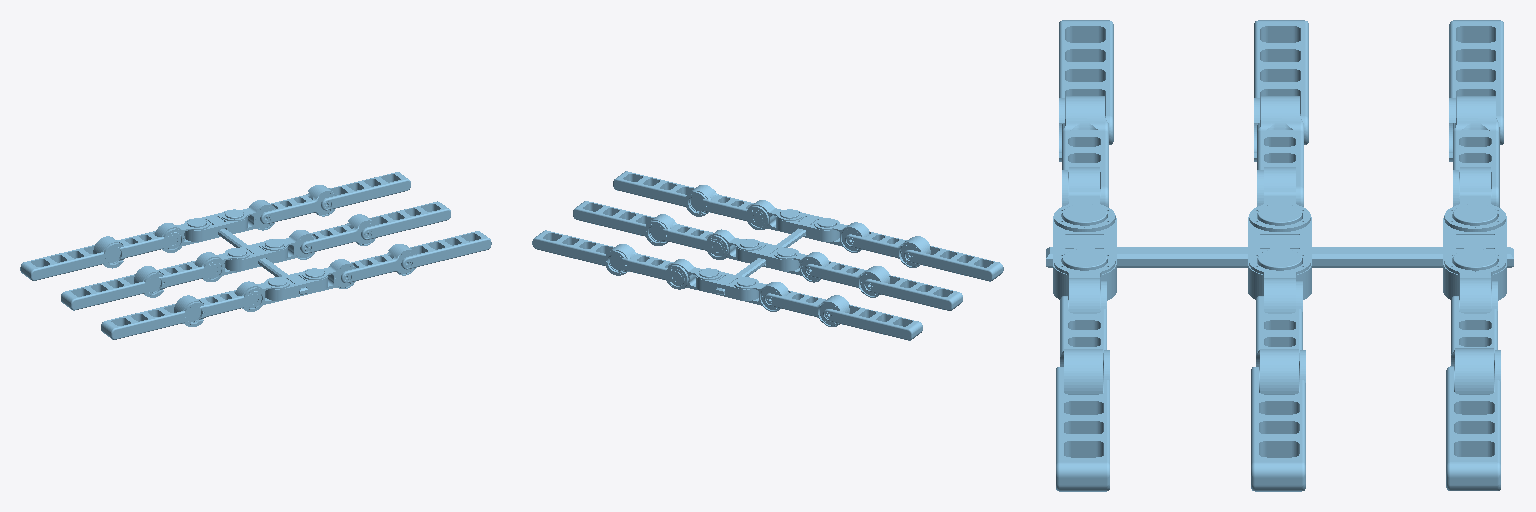
--- Facts derived from the render (not from the file) ---
3 views of the same robot in one strip: view 1: azimuth 30°, elevation 25°; view 2: azimuth 150°, elevation 25°; view 3: azimuth 270°, elevation 25° (orthographic).
Model stick_insect_runj with 19 links and 18 joints (18 revolute), rooted at marine_body, posed all joints at 0.
Visible links, largest first — view 1: marine_body, leg_link_3_4, leg_link_3_2, leg_link_3_6, leg_link_3, leg_link_3_3, leg_link_3_5, marine_link_2_6, marine_link_2_2, marine_link_2_4, marine_link_2, marine_link_2_5 (+6 smaller); view 2: marine_body, leg_link_3_6, leg_link_3_4, leg_link_3_2, leg_link_3, leg_link_3_3, leg_link_3_5, marine_link_2_5, marine_link_2_3, marine_link_2, marine_link_2_2, marine_link_2_6 (+7 smaller); view 3: marine_body, leg_link_3_3, leg_link_3_5, leg_link_3, leg_link_3_6, leg_link_3_2, leg_link_3_4, marine_link_2_3, marine_link_2_5, marine_link_2, marine_link_2_2, marine_link_2_6 (+7 smaller).
Boxes of the visible links, x1,y1,x2,y2 form: marine_body: (184,210,327,300); leg_link_3_4: (61,272,163,310); leg_link_3_2: (101,302,203,339); leg_link_3_6: (20,243,123,280); leg_link_3: (388,231,491,269); leg_link_3_3: (348,201,450,239); leg_link_3_5: (308,172,410,210); marine_link_2_6: (93,228,184,267); marine_link_2_2: (174,287,264,326); marine_link_2_4: (134,258,224,296); marine_link_2: (329,244,416,282); marine_link_2_5: (249,185,336,223); marine_body: (696,210,839,300); leg_link_3_6: (823,295,922,340); leg_link_3_4: (864,266,962,310); leg_link_3_2: (904,236,1003,281); leg_link_3: (613,171,706,216); leg_link_3_3: (573,201,665,245); leg_link_3_5: (532,230,625,275); marine_link_2_5: (608,244,688,289); marine_link_2_3: (649,214,728,259); marine_link_2: (688,185,768,229); marine_link_2_2: (845,222,930,267); marine_link_2_6: (764,282,849,326); marine_body: (1046,204,1513,300); leg_link_3_3: (1251,350,1305,491); leg_link_3_5: (1446,350,1500,490); leg_link_3: (1056,350,1109,491); leg_link_3_6: (1449,20,1503,161); leg_link_3_2: (1059,20,1113,161); leg_link_3_4: (1254,20,1308,161); marine_link_2_3: (1256,281,1302,394); marine_link_2_5: (1451,281,1497,394); marine_link_2: (1060,281,1106,394); marine_link_2_2: (1062,96,1108,207); marine_link_2_6: (1453,96,1499,207).
Bounding box of the posed robot: 1.36 × 0.6 × 0.087 m (x, y, z).
43 mesh visuals loaded from 7 distinct referenced files (7 binary STL).

The robot description file, URDF, robot "stick_insect_runj":
<robot name="stick_insect_runj">
<link name="marine_body">
<visual>
<origin xyz="0.49554269847897802759 0.16053417498772720728 -0.21974789051679632923" rpy="1.3305681734714802891e-08 -1.225703761843755699e-08 1.570796326794896558" />
<geometry>
<mesh filename="package://quadruped_description/quadruped/ak60-6_motor_frame_1.stl"/>
</geometry>
<material name="ak60-6_motor_frame_1_material">
<color rgba="0.61568627450980395466 0.81176470588235294379 0.92941176470588238168 1.0"/>
</material>
</visual>
<collision>
<origin xyz="0.49554269847897802759 0.16053417498772720728 -0.21974789051679632923" rpy="1.3305681734714802891e-08 -1.225703761843755699e-08 1.570796326794896558" />
<geometry>
<mesh filename="package://quadruped_description/quadruped/ak60-6_motor_frame_1.stl"/>
</geometry>
</collision>
<visual>
<origin xyz="0.62954269893137126957 0.16053417457098789756 -0.18574789229975763316" rpy="-1.3305681734714776421e-08 1.2257037618437558644e-08 -1.57079632679489678" />
<geometry>
<mesh filename="package://quadruped_description/quadruped/ak60-6_motor_frame_2.stl"/>
</geometry>
<material name="ak60-6_motor_frame_2_material">
<color rgba="0.61568627450980395466 0.81176470588235294379 0.92941176470588238168 1.0"/>
</material>
</visual>
<collision>
<origin xyz="0.62954269893137126957 0.16053417457098789756 -0.18574789229975763316" rpy="-1.3305681734714776421e-08 1.2257037618437558644e-08 -1.57079632679489678" />
<geometry>
<mesh filename="package://quadruped_description/quadruped/ak60-6_motor_frame_2.stl"/>
</geometry>
</collision>
<visual>
<origin xyz="0.49554269847897802759 -0.089465825012272834349 -0.219747893581055731" rpy="1.3305681734714796274e-08 -1.2257037618437555335e-08 1.570796326794896558" />
<geometry>
<mesh filename="package://quadruped_description/quadruped/ak60-6_motor_frame_1.stl"/>
</geometry>
<material name="ak60-6_motor_frame_1_material">
<color rgba="0.61568627450980395466 0.81176470588235294379 0.92941176470588238168 1.0"/>
</material>
</visual>
<collision>
<origin xyz="0.49554269847897802759 -0.089465825012272834349 -0.219747893581055731" rpy="1.3305681734714796274e-08 -1.2257037618437555335e-08 1.570796326794896558" />
<geometry>
<mesh filename="package://quadruped_description/quadruped/ak60-6_motor_frame_1.stl"/>
</geometry>
</collision>
<visual>
<origin xyz="0.49554269847897780554 0.41053417498772720728 -0.21974788745253695521" rpy="1.3305681734714835978e-08 -1.225703761843755699e-08 1.570796326794896558" />
<geometry>
<mesh filename="package://quadruped_description/quadruped/ak60-6_motor_frame_1.stl"/>
</geometry>
<material name="ak60-6_motor_frame_1_material">
<color rgba="0.61568627450980395466 0.81176470588235294379 0.92941176470588238168 1.0"/>
</material>
</visual>
<collision>
<origin xyz="0.49554269847897780554 0.41053417498772720728 -0.21974788745253695521" rpy="1.3305681734714835978e-08 -1.225703761843755699e-08 1.570796326794896558" />
<geometry>
<mesh filename="package://quadruped_description/quadruped/ak60-6_motor_frame_1.stl"/>
</geometry>
</collision>
<visual>
<origin xyz="0.62954269853220112818 0.41053417493869903687 -0.21574788923549828579" rpy="1.2257037618437566916e-08 1.3305681734714796274e-08 5.5511153706836529512e-17" />
<geometry>
<mesh filename="package://quadruped_description/quadruped/ak_80-6.stl"/>
</geometry>
<material name="ak_80-6_material">
<color rgba="0.61568627450980395466 0.81176470588235294379 0.92941176470588238168 1.0"/>
</material>
</visual>
<collision>
<origin xyz="0.62954269853220112818 0.41053417493869903687 -0.21574788923549828579" rpy="1.2257037618437566916e-08 1.3305681734714796274e-08 5.5511153706836529512e-17" />
<geometry>
<mesh filename="package://quadruped_description/quadruped/ak_80-6.stl"/>
</geometry>
</collision>
<visual>
<origin xyz="0.49554269854550642149 0.16053417492644200815 -0.21474789051679632479" rpy="1.2257037618437566916e-08 1.3305681734714796274e-08 5.5511153706836529512e-17" />
<geometry>
<mesh filename="package://quadruped_description/quadruped/ak_80-6.stl"/>
</geometry>
<material name="ak_80-6_material">
<color rgba="0.61568627450980395466 0.81176470588235294379 0.92941176470588238168 1.0"/>
</material>
</visual>
<collision>
<origin xyz="0.49554269854550642149 0.16053417492644200815 -0.21474789051679632479" rpy="1.2257037618437566916e-08 1.3305681734714796274e-08 5.5511153706836529512e-17" />
<geometry>
<mesh filename="package://quadruped_description/quadruped/ak_80-6.stl"/>
</geometry>
</collision>
<visual>
<origin xyz="0.49554269854550642149 -0.089465825073558019609 -0.21474789358105572656" rpy="1.2257037618437566916e-08 1.3305681734714796274e-08 5.5511153706836529512e-17" />
<geometry>
<mesh filename="package://quadruped_description/quadruped/ak_80-6.stl"/>
</geometry>
<material name="ak_80-6_material">
<color rgba="0.61568627450980395466 0.81176470588235294379 0.92941176470588238168 1.0"/>
</material>
</visual>
<collision>
<origin xyz="0.49554269854550642149 -0.089465825073558019609 -0.21474789358105572656" rpy="1.2257037618437566916e-08 1.3305681734714796274e-08 5.5511153706836529512e-17" />
<geometry>
<mesh filename="package://quadruped_description/quadruped/ak_80-6.stl"/>
</geometry>
</collision>
<visual>
<origin xyz="0.62954269853220079511 -0.089465825061300990884 -0.21574789536401708934" rpy="1.2257037618437566916e-08 1.3305681734714796274e-08 5.5511153706836529512e-17" />
<geometry>
<mesh filename="package://quadruped_description/quadruped/ak_80-6.stl"/>
</geometry>
<material name="ak_80-6_material">
<color rgba="0.61568627450980395466 0.81176470588235294379 0.92941176470588238168 1.0"/>
</material>
</visual>
<collision>
<origin xyz="0.62954269853220079511 -0.089465825061300990884 -0.21574789536401708934" rpy="1.2257037618437566916e-08 1.3305681734714796274e-08 5.5511153706836529512e-17" />
<geometry>
<mesh filename="package://quadruped_description/quadruped/ak_80-6.stl"/>
</geometry>
</collision>
<visual>
<origin xyz="0.62954269853220079511 0.16053417493869903687 -0.21574789229975768756" rpy="1.2257037618437566916e-08 1.3305681734714796274e-08 5.5511153706836529512e-17" />
<geometry>
<mesh filename="package://quadruped_description/quadruped/ak_80-6.stl"/>
</geometry>
<material name="ak_80-6_material">
<color rgba="0.61568627450980395466 0.81176470588235294379 0.92941176470588238168 1.0"/>
</material>
</visual>
<collision>
<origin xyz="0.62954269853220079511 0.16053417493869903687 -0.21574789229975768756" rpy="1.2257037618437566916e-08 1.3305681734714796274e-08 5.5511153706836529512e-17" />
<geometry>
<mesh filename="package://quadruped_description/quadruped/ak_80-6.stl"/>
</geometry>
</collision>
<visual>
<origin xyz="0.62954269893137115854 -0.089465825429012116321 -0.18574789536401703494" rpy="-1.3305681734714776421e-08 1.2257037618437558644e-08 -1.57079632679489678" />
<geometry>
<mesh filename="package://quadruped_description/quadruped/ak60-6_motor_frame_2.stl"/>
</geometry>
<material name="ak60-6_motor_frame_2_material">
<color rgba="0.61568627450980395466 0.81176470588235294379 0.92941176470588238168 1.0"/>
</material>
</visual>
<collision>
<origin xyz="0.62954269893137115854 -0.089465825429012116321 -0.18574789536401703494" rpy="-1.3305681734714776421e-08 1.2257037618437558644e-08 -1.57079632679489678" />
<geometry>
<mesh filename="package://quadruped_description/quadruped/ak60-6_motor_frame_2.stl"/>
</geometry>
</collision>
<visual>
<origin xyz="0.49554269854550619945 0.41053417492644200815 -0.21474788745253692301" rpy="1.2257037618437566916e-08 1.3305681734714796274e-08 5.5511153706836529512e-17" />
<geometry>
<mesh filename="package://quadruped_description/quadruped/ak_80-6.stl"/>
</geometry>
<material name="ak_80-6_material">
<color rgba="0.61568627450980395466 0.81176470588235294379 0.92941176470588238168 1.0"/>
</material>
</visual>
<collision>
<origin xyz="0.49554269854550619945 0.41053417492644200815 -0.21474788745253692301" rpy="1.2257037618437566916e-08 1.3305681734714796274e-08 5.5511153706836529512e-17" />
<geometry>
<mesh filename="package://quadruped_description/quadruped/ak_80-6.stl"/>
</geometry>
</collision>
<visual>
<origin xyz="0.62954269893137126957 0.41053417457098795307 -0.18574788923549812036" rpy="-1.3305681734714776421e-08 1.2257037618437558644e-08 -1.57079632679489678" />
<geometry>
<mesh filename="package://quadruped_description/quadruped/ak60-6_motor_frame_2.stl"/>
</geometry>
<material name="ak60-6_motor_frame_2_material">
<color rgba="0.61568627450980395466 0.81176470588235294379 0.92941176470588238168 1.0"/>
</material>
</visual>
<collision>
<origin xyz="0.62954269893137126957 0.41053417457098795307 -0.18574788923549812036" rpy="-1.3305681734714776421e-08 1.2257037618437558644e-08 -1.57079632679489678" />
<geometry>
<mesh filename="package://quadruped_description/quadruped/ak60-6_motor_frame_2.stl"/>
</geometry>
</collision>
<visual>
<origin xyz="0.5625426986918690142 0.46053417479161462555 -0.20374788773116569995" rpy="1.5707963390519341651 1.330568185036300705e-08 5.5511155124340948949e-17" />
<geometry>
<mesh filename="package://quadruped_description/quadruped/body_part.stl"/>
</geometry>
<material name="body_part_material">
<color rgba="0.61568627450980395466 0.81176470588235294379 0.92941176470588238168 1.0"/>
</material>
</visual>
<collision>
<origin xyz="0.5625426986918690142 0.46053417479161462555 -0.20374788773116569995" rpy="1.5707963390519341651 1.330568185036300705e-08 5.5511155124340948949e-17" />
<geometry>
<mesh filename="package://quadruped_description/quadruped/body_part.stl"/>
</geometry>
</collision>
<inertial>
<origin xyz="0.56254269878464435717 0.16053417470615088947 -0.19677526840596648583" rpy="0 0 0"/>
<mass value="9.8052614872362795495" />
<inertia ixx="0.40721496581039423601" ixy="-3.4962272021055413331e-12"  ixz="0.00028523962509390292028" iyy="0.04410019131074768145" iyz="-4.9589905612922480928e-09" izz="0.44868331468884170565" />
</inertial>
</link>

<link name="marine_link_1">
<visual>
<origin xyz="0.015999999999999944822 0.099999999999999977796 0.013999999999999929168" rpy="-3.1415926535897922278 1.570796326794896558 0" />
<geometry>
<mesh filename="package://quadruped_description/quadruped/ak_80-6.stl"/>
</geometry>
<material name="ak_80-6_material">
<color rgba="0.61568627450980395466 0.81176470588235294379 0.92941176470588238168 1.0"/>
</material>
</visual>
<collision>
<origin xyz="0.015999999999999944822 0.099999999999999977796 0.013999999999999929168" rpy="-3.1415926535897922278 1.570796326794896558 0" />
<geometry>
<mesh filename="package://quadruped_description/quadruped/ak_80-6.stl"/>
</geometry>
</collision>
<visual>
<origin xyz="-1.3877787807814456755e-17 0 -0.0060000000000000053291" rpy="3.141592653589793116 -1.0697889891861386437e-25 3.65050456951868538e-32" />
<geometry>
<mesh filename="package://quadruped_description/quadruped/leg_link_1.stl"/>
</geometry>
<material name="leg_link_1_material">
<color rgba="0.61568627450980395466 0.81176470588235294379 0.92941176470588238168 1.0"/>
</material>
</visual>
<collision>
<origin xyz="-1.3877787807814456755e-17 0 -0.0060000000000000053291" rpy="3.141592653589793116 -1.0697889891861386437e-25 3.65050456951868538e-32" />
<geometry>
<mesh filename="package://quadruped_description/quadruped/leg_link_1.stl"/>
</geometry>
</collision>
<inertial>
<origin xyz="-0.003079867455268380308 0.097378484809245130505 0.013713671493597888451" rpy="0 0 0"/>
<mass value="1.5219446759767925048" />
<inertia ixx="0.0014510247696950756644" ixy="1.2288058522573831177e-05"  ixz="1.3421327695365534447e-06" iyy="0.00078490304555341237729" iyz="-2.753599898644256265e-05" izz="0.0010848479241112583306" />
</inertial>
</link>

<link name="marine_link_2">
<visual>
<origin xyz="-2.7755575615628913511e-17 0 -0.0050000000000000044409" rpy="3.141592653589793116 -7.4376673055560418017e-25 -6.0746132443043036773e-33" />
<geometry>
<mesh filename="package://quadruped_description/quadruped/leg_link_2.stl"/>
</geometry>
<material name="leg_link_2_material">
<color rgba="0.61568627450980395466 0.81176470588235294379 0.92941176470588238168 1.0"/>
</material>
</visual>
<collision>
<origin xyz="-2.7755575615628913511e-17 0 -0.0050000000000000044409" rpy="3.141592653589793116 -7.4376673055560418017e-25 -6.0746132443043036773e-33" />
<geometry>
<mesh filename="package://quadruped_description/quadruped/leg_link_2.stl"/>
</geometry>
</collision>
<visual>
<origin xyz="-2.7755575615628913511e-17 0.21399999999999996803 -0.0060000000000000192069" rpy="-3.3306690738754641979e-16 -2.2204460609926013323e-16 -3.141592653589793116" />
<geometry>
<mesh filename="package://quadruped_description/quadruped/ak_80-6.stl"/>
</geometry>
<material name="ak_80-6_material">
<color rgba="0.61568627450980395466 0.81176470588235294379 0.92941176470588238168 1.0"/>
</material>
</visual>
<collision>
<origin xyz="-2.7755575615628913511e-17 0.21399999999999996803 -0.0060000000000000192069" rpy="-3.3306690738754641979e-16 -2.2204460609926013323e-16 -3.141592653589793116" />
<geometry>
<mesh filename="package://quadruped_description/quadruped/ak_80-6.stl"/>
</geometry>
</collision>
<inertial>
<origin xyz="-8.3367393509718289613e-09 0.19552184531056762684 0.013940732635970872269" rpy="0 0 0"/>
<mass value="1.7687316482567319031" />
<inertia ixx="0.0050867491706552449282" ixy="-7.1050280532120018949e-10"  ixz="5.9357133909882572598e-10" iyy="0.0009414387688410585887" iyz="6.7525784112206494575e-05" izz="0.0053701448403779151325" />
</inertial>
</link>

<link name="leg_link_3">
<visual>
<origin xyz="0 0 -0.0049999999999999905631" rpy="3.141592653589793116 8.0361348176900220237e-25 -6.2314092412225088035e-33" />
<geometry>
<mesh filename="package://quadruped_description/quadruped/leg_link_3.stl"/>
</geometry>
<material name="leg_link_3_material">
<color rgba="0.61568627450980395466 0.81176470588235294379 0.92941176470588238168 1.0"/>
</material>
</visual>
<collision>
<origin xyz="0 0 -0.0049999999999999905631" rpy="3.141592653589793116 8.0361348176900220237e-25 -6.2314092412225088035e-33" />
<geometry>
<mesh filename="package://quadruped_description/quadruped/leg_link_3.stl"/>
</geometry>
</collision>
<inertial>
<origin xyz="-3.2230404266991602092e-08 0.16546849448399042481 0.018847935716785849114" rpy="0 0 0"/>
<mass value="0.42766929955741023184" />
<inertia ixx="0.0033996134873447241519" ixy="-1.2242578620013189789e-10"  ixz="4.5477348300680707396e-10" iyy="0.00032151983771756017898" iyz="-2.1840639475865687041e-05" izz="0.0032069954193416180983" />
</inertial>
</link>

<joint name="leg1_3" type="revolute">
<origin xyz="-2.7755575615628913511e-17 0.21399999999999996803 -0.0060000000000000192069" rpy="3.3306690738754237687e-16 2.2204460903736927137e-16 1.6543612188746611647e-24" />
<parent link="marine_link_2" />
<child link="leg_link_3" />
<axis xyz="0 0 1"/>
<limit effort="1" velocity="20" />
<joint_properties friction="0.0"/>
</joint>

<joint name="leg1_2" type="revolute">
<origin xyz="0.015999999999999944822 0.099999999999999977796 0.013999999999999929168" rpy="-1.0297707144057653159e-15 -1.5707963134892146684 0" />
<parent link="marine_link_1" />
<child link="marine_link_2" />
<axis xyz="0 0 1"/>
<limit effort="1" velocity="20" />
<joint_properties friction="0.0"/>
</joint>

<joint name="leg1_1" type="revolute">
<origin xyz="0.62954269853220079511 -0.089465825061300990884 -0.21574789536401708934" rpy="-1.3305681734714807854e-08 1.2257037618437565262e-08 -1.5707963267948958919" />
<parent link="marine_body" />
<child link="marine_link_1" />
<axis xyz="0 0 1"/>
<limit effort="1" velocity="20" />
<joint_properties friction="0.0"/>
</joint>

<link name="marine_link_1_2">
<visual>
<origin xyz="0.015999999999999042766 0.099999999999999977796 0.013999999999999929168" rpy="-3.141592653589793116 1.570796326794896558 0" />
<geometry>
<mesh filename="package://quadruped_description/quadruped/ak_80-6.stl"/>
</geometry>
<material name="ak_80-6_material">
<color rgba="0.61568627450980395466 0.81176470588235294379 0.92941176470588238168 1.0"/>
</material>
</visual>
<collision>
<origin xyz="0.015999999999999042766 0.099999999999999977796 0.013999999999999929168" rpy="-3.141592653589793116 1.570796326794896558 0" />
<geometry>
<mesh filename="package://quadruped_description/quadruped/ak_80-6.stl"/>
</geometry>
</collision>
<visual>
<origin xyz="-1.3877787807814456755e-17 0 -0.0060000000000000330846" rpy="3.141592653589793116 -7.5393456993408425876e-25 2.917602418913989383e-32" />
<geometry>
<mesh filename="package://quadruped_description/quadruped/leg_link_1.stl"/>
</geometry>
<material name="leg_link_1_material">
<color rgba="0.61568627450980395466 0.81176470588235294379 0.92941176470588238168 1.0"/>
</material>
</visual>
<collision>
<origin xyz="-1.3877787807814456755e-17 0 -0.0060000000000000330846" rpy="3.141592653589793116 -7.5393456993408425876e-25 2.917602418913989383e-32" />
<geometry>
<mesh filename="package://quadruped_description/quadruped/leg_link_1.stl"/>
</geometry>
</collision>
<inertial>
<origin xyz="-0.0030798674552687073033 0.097378484809245116627 0.013713671493597886716" rpy="0 0 0"/>
<mass value="1.5219446759767925048" />
<inertia ixx="0.0014510247696950171175" ixy="1.2288058522576624692e-05"  ixz="1.3421327695366989226e-06" iyy="0.00078490304555335404721" iyz="-2.7535998986442660906e-05" izz="0.0010848479241112312255" />
</inertial>
</link>

<link name="marine_link_2_2">
<visual>
<origin xyz="0 0 -0.0049999999999999905631" rpy="-3.141592653589793116 6.864584346453913776e-25 -1.5117196032702463348e-33" />
<geometry>
<mesh filename="package://quadruped_description/quadruped/leg_link_2.stl"/>
</geometry>
<material name="leg_link_2_material">
<color rgba="0.61568627450980395466 0.81176470588235294379 0.92941176470588238168 1.0"/>
</material>
</visual>
<collision>
<origin xyz="0 0 -0.0049999999999999905631" rpy="-3.141592653589793116 6.864584346453913776e-25 -1.5117196032702463348e-33" />
<geometry>
<mesh filename="package://quadruped_description/quadruped/leg_link_2.stl"/>
</geometry>
</collision>
<visual>
<origin xyz="0 0.21400000000000005129 -0.0059999999999999359401" rpy="-3.3306690738754701143e-16 6.6613381488208584693e-16 3.141592653589793116" />
<geometry>
<mesh filename="package://quadruped_description/quadruped/ak_80-6.stl"/>
</geometry>
<material name="ak_80-6_material">
<color rgba="0.61568627450980395466 0.81176470588235294379 0.92941176470588238168 1.0"/>
</material>
</visual>
<collision>
<origin xyz="0 0.21400000000000005129 -0.0059999999999999359401" rpy="-3.3306690738754701143e-16 6.6613381488208584693e-16 3.141592653589793116" />
<geometry>
<mesh filename="package://quadruped_description/quadruped/ak_80-6.stl"/>
</geometry>
</collision>
<inertial>
<origin xyz="-8.3367393232162533457e-09 0.19552184531056768235 0.013940732635970912168" rpy="0 0 0"/>
<mass value="1.7687316482567319031" />
<inertia ixx="0.0050867491706552353872" ixy="-7.1050280532120122346e-10"  ixz="5.935713397170393193e-10" iyy="0.00094143876884104384355" iyz="6.7525784112205667871e-05" izz="0.0053701448403779159999" />
</inertial>
</link>

<link name="leg_link_3_2">
<visual>
<origin xyz="0 0 -0.0049999999999999905631" rpy="-3.141592653589793116 4.2537504216873527989e-25 -5.170011011294480178e-33" />
<geometry>
<mesh filename="package://quadruped_description/quadruped/leg_link_3.stl"/>
</geometry>
<material name="leg_link_3_material">
<color rgba="0.61568627450980395466 0.81176470588235294379 0.92941176470588238168 1.0"/>
</material>
</visual>
<collision>
<origin xyz="0 0 -0.0049999999999999905631" rpy="-3.141592653589793116 4.2537504216873527989e-25 -5.170011011294480178e-33" />
<geometry>
<mesh filename="package://quadruped_description/quadruped/leg_link_3.stl"/>
</geometry>
</collision>
<inertial>
<origin xyz="-3.2230404266991602092e-08 0.16546849448399042481 0.018847935716785849114" rpy="0 0 0"/>
<mass value="0.42766929955741023184" />
<inertia ixx="0.0033996134873447241519" ixy="-1.2242578620013189789e-10"  ixz="4.5477348300680707396e-10" iyy="0.00032151983771756017898" iyz="-2.1840639475865687041e-05" izz="0.0032069954193416180983" />
</inertial>
</link>

<joint name="leg2_3" type="revolute">
<origin xyz="0 0.21400000000000005129 -0.0059999999999999359401" rpy="3.3306690738754602535e-16 -6.6613381269537081323e-16 -4.2147865943526321321e-32" />
<parent link="marine_link_2_2" />
<child link="leg_link_3_2" />
<axis xyz="0 0 1"/>
<limit effort="1" velocity="20" />
<joint_properties friction="0.0"/>
</joint>

<joint name="leg2_2" type="revolute">
<origin xyz="0.015999999999999042766 0.099999999999999977796 0.013999999999999929168" rpy="-1.1102230246251358328e-16 -1.5707963134892148904 0" />
<parent link="marine_link_1_2" />
<child link="marine_link_2_2" />
<axis xyz="0 0 1"/>
<limit effort="1" velocity="20" />
<joint_properties friction="0.0"/>
</joint>

<joint name="leg2_1" type="revolute">
<origin xyz="0.49554269854550642149 -0.089465825073558019609 -0.21474789358105572656" rpy="1.3305681734715122183e-08 -1.2257037618437547064e-08 1.570796326794896558" />
<parent link="marine_body" />
<child link="marine_link_1_2" />
<axis xyz="0 0 1"/>
<limit effort="1" velocity="20" />
<joint_properties friction="0.0"/>
</joint>

<link name="marine_link_1_3">
<visual>
<origin xyz="0.015999999999999542366 0.10000000000000008882 0.013999999999999956923" rpy="-3.141592653589793116 1.570796326794896558 0" />
<geometry>
<mesh filename="package://quadruped_description/quadruped/ak_80-6.stl"/>
</geometry>
<material name="ak_80-6_material">
<color rgba="0.61568627450980395466 0.81176470588235294379 0.92941176470588238168 1.0"/>
</material>
</visual>
<collision>
<origin xyz="0.015999999999999542366 0.10000000000000008882 0.013999999999999956923" rpy="-3.141592653589793116 1.570796326794896558 0" />
<geometry>
<mesh filename="package://quadruped_description/quadruped/ak_80-6.stl"/>
</geometry>
</collision>
<visual>
<origin xyz="0 0 -0.0060000000000000053291" rpy="-3.141592653589793116 1.0952177031047265357e-25 2.5869652728735385059e-24" />
<geometry>
<mesh filename="package://quadruped_description/quadruped/leg_link_1.stl"/>
</geometry>
<material name="leg_link_1_material">
<color rgba="0.61568627450980395466 0.81176470588235294379 0.92941176470588238168 1.0"/>
</material>
</visual>
<collision>
<origin xyz="0 0 -0.0060000000000000053291" rpy="-3.141592653589793116 1.0952177031047265357e-25 2.5869652728735385059e-24" />
<geometry>
<mesh filename="package://quadruped_description/quadruped/leg_link_1.stl"/>
</geometry>
</collision>
<inertial>
<origin xyz="-0.0030798674552685290605 0.097378484809245227649 0.013713671493597916207" rpy="0 0 0"/>
<mass value="1.5219446759767925048" />
<inertia ixx="0.0014510247696950502941" ixy="1.2288058522575977558e-05"  ixz="1.3421327695366271365e-06" iyy="0.00078490304555338679011" iyz="-2.7535998986442704952e-05" izz="0.0010848479241112472717" />
</inertial>
</link>

<link name="marine_link_2_3">
<visual>
<origin xyz="-2.7755575615628913511e-17 0 -0.0050000000000000044409" rpy="-3.141592653589793116 1.3907307573403654665e-24 2.0285433583972228492e-25" />
<geometry>
<mesh filename="package://quadruped_description/quadruped/leg_link_2.stl"/>
</geometry>
<material name="leg_link_2_material">
<color rgba="0.61568627450980395466 0.81176470588235294379 0.92941176470588238168 1.0"/>
</material>
</visual>
<collision>
<origin xyz="-2.7755575615628913511e-17 0 -0.0050000000000000044409" rpy="-3.141592653589793116 1.3907307573403654665e-24 2.0285433583972228492e-25" />
<geometry>
<mesh filename="package://quadruped_description/quadruped/leg_link_2.stl"/>
</geometry>
</collision>
<visual>
<origin xyz="-5.5511151231257827021e-17 0.21400000000000019007 -0.0060000000000000053291" rpy="-3.3306690885949711911e-16 -2.2204460385778545698e-16 3.141592653589793116" />
<geometry>
<mesh filename="package://quadruped_description/quadruped/ak_80-6.stl"/>
</geometry>
<material name="ak_80-6_material">
<color rgba="0.61568627450980395466 0.81176470588235294379 0.92941176470588238168 1.0"/>
</material>
</visual>
<collision>
<origin xyz="-5.5511151231257827021e-17 0.21400000000000019007 -0.0060000000000000053291" rpy="-3.3306690885949711911e-16 -2.2204460385778545698e-16 3.141592653589793116" />
<geometry>
<mesh filename="package://quadruped_description/quadruped/ak_80-6.stl"/>
</geometry>
</collision>
<inertial>
<origin xyz="-8.3367393732408578489e-09 0.19552184531056776562 0.013940732635970882677" rpy="0 0 0"/>
<mass value="1.7687316482567319031" />
<inertia ixx="0.0050867491706552570713" ixy="-7.1050280459338661257e-10"  ixz="5.9357133906809400167e-10" iyy="0.00094143876884105880554" iyz="6.7525784112206453918e-05" izz="0.0053701448403779272756" />
</inertial>
</link>

<link name="leg_link_3_3">
<visual>
<origin xyz="-2.7755575615628913511e-17 0 -0.0049999999999999766853" rpy="-3.141592653589793116 6.966362740402553954e-25 2.7749145379640475013e-25" />
<geometry>
<mesh filename="package://quadruped_description/quadruped/leg_link_3.stl"/>
</geometry>
<material name="leg_link_3_material">
<color rgba="0.61568627450980395466 0.81176470588235294379 0.92941176470588238168 1.0"/>
</material>
</visual>
<collision>
<origin xyz="-2.7755575615628913511e-17 0 -0.0049999999999999766853" rpy="-3.141592653589793116 6.966362740402553954e-25 2.7749145379640475013e-25" />
<geometry>
<mesh filename="package://quadruped_description/quadruped/leg_link_3.stl"/>
</geometry>
</collision>
<inertial>
<origin xyz="-3.2230404294747177707e-08 0.16546849448399042481 0.018847935716785866461" rpy="0 0 0"/>
<mass value="0.42766929955741023184" />
<inertia ixx="0.0033996134873447241519" ixy="-1.2242578620013189789e-10"  ixz="4.5477348300680712566e-10" iyy="0.00032151983771756017898" iyz="-2.1840639475865690429e-05" izz="0.0032069954193416189657" />
</inertial>
</link>

<joint name="leg3_3" type="revolute">
<origin xyz="-5.5511151231257827021e-17 0.21400000000000019007 -0.0060000000000000053291" rpy="3.2897757207906240735e-16 2.1740346064075694008e-16 1.5775077551595413785e-16" />
<parent link="marine_link_2_3" />
<child link="leg_link_3_3" />
<axis xyz="0 0 1"/>
<limit effort="1" velocity="20" />
<joint_properties friction="0.0"/>
</joint>

<joint name="leg3_2" type="revolute">
<origin xyz="0.015999999999999542366 0.10000000000000008882 0.013999999999999956923" rpy="-1.1102230042829666546e-16 -1.5707963121762660297 0" />
<parent link="marine_link_1_3" />
<child link="marine_link_2_3" />
<axis xyz="0 0 1"/>
<limit effort="1" velocity="20" />
<joint_properties friction="0.0"/>
</joint>

<joint name="leg3_1" type="revolute">
<origin xyz="0.62954269853220079511 0.16053417493869903687 -0.21574789229975768756" rpy="-1.3305681809745279144e-08 1.2257037388934383595e-08 -1.5707963440434054014" />
<parent link="marine_body" />
<child link="marine_link_1_3" />
<axis xyz="0 0 1"/>
<limit effort="1" velocity="20" />
<joint_properties friction="0.0"/>
</joint>

<link name="marine_link_1_4">
<visual>
<origin xyz="0.015999999999999042766 0.10000000000000003331 0.013999999999999956923" rpy="-3.141592653589793116 1.570796326794896558 0" />
<geometry>
<mesh filename="package://quadruped_description/quadruped/ak_80-6.stl"/>
</geometry>
<material name="ak_80-6_material">
<color rgba="0.61568627450980395466 0.81176470588235294379 0.92941176470588238168 1.0"/>
</material>
</visual>
<collision>
<origin xyz="0.015999999999999042766 0.10000000000000003331 0.013999999999999956923" rpy="-3.141592653589793116 1.570796326794896558 0" />
<geometry>
<mesh filename="package://quadruped_description/quadruped/ak_80-6.stl"/>
</geometry>
</collision>
<visual>
<origin xyz="0 5.5511151231257827021e-17 -0.0060000000000000053291" rpy="3.141592653589793116 -1.668211952592687238e-25 1.6053017636499942982e-32" />
<geometry>
<mesh filename="package://quadruped_description/quadruped/leg_link_1.stl"/>
</geometry>
<material name="leg_link_1_material">
<color rgba="0.61568627450980395466 0.81176470588235294379 0.92941176470588238168 1.0"/>
</material>
</visual>
<collision>
<origin xyz="0 5.5511151231257827021e-17 -0.0060000000000000053291" rpy="3.141592653589793116 -1.668211952592687238e-25 1.6053017636499942982e-32" />
<geometry>
<mesh filename="package://quadruped_description/quadruped/leg_link_1.stl"/>
</geometry>
</collision>
<inertial>
<origin xyz="-0.0030798674552687068696 0.097378484809245172138 0.013713671493597916207" rpy="0 0 0"/>
<mass value="1.5219446759767925048" />
<inertia ixx="0.0014510247696950171175" ixy="1.2288058522576677208e-05"  ixz="1.34213276953670464e-06" iyy="0.00078490304555335404721" iyz="-2.7535998986442660906e-05" izz="0.0010848479241112316592" />
</inertial>
</link>

<link name="marine_link_2_4">
<visual>
<origin xyz="0 0 -0.0049999999999999766853" rpy="3.141592653589793116 -5.9851547942136553154e-26 -5.7154402598272642465e-25" />
<geometry>
<mesh filename="package://quadruped_description/quadruped/leg_link_2.stl"/>
</geometry>
<material name="leg_link_2_material">
<color rgba="0.61568627450980395466 0.81176470588235294379 0.92941176470588238168 1.0"/>
</material>
</visual>
<collision>
<origin xyz="0 0 -0.0049999999999999766853" rpy="3.141592653589793116 -5.9851547942136553154e-26 -5.7154402598272642465e-25" />
<geometry>
<mesh filename="package://quadruped_description/quadruped/leg_link_2.stl"/>
</geometry>
</collision>
<visual>
<origin xyz="2.7755575615628913511e-17 0.21399999999999996803 -0.0059999999999999498179" rpy="-3.3306690738754706073e-16 6.6613381477510565856e-16 -3.141592653589793116" />
<geometry>
<mesh filename="package://quadruped_description/quadruped/ak_80-6.stl"/>
</geometry>
<material name="ak_80-6_material">
<color rgba="0.61568627450980395466 0.81176470588235294379 0.92941176470588238168 1.0"/>
</material>
</visual>
<collision>
<origin xyz="2.7755575615628913511e-17 0.21399999999999996803 -0.0059999999999999498179" rpy="-3.3306690738754706073e-16 6.6613381477510565856e-16 -3.141592653589793116" />
<geometry>
<mesh filename="package://quadruped_description/quadruped/ak_80-6.stl"/>
</geometry>
</collision>
<inertial>
<origin xyz="-8.3367393009472261124e-09 0.19552184531056762684 0.013940732635970903494" rpy="0 0 0"/>
<mass value="1.7687316482567319031" />
<inertia ixx="0.0050867491706552327851" ixy="-7.1050280604901655814e-10"  ixz="5.935713397477713538e-10" iyy="0.00094143876884104601196" iyz="6.752578411220630484e-05" izz="0.005370144840377911663" />
</inertial>
</link>

<link name="leg_link_3_4">
<visual>
<origin xyz="-2.7755575615628913511e-17 2.7755575615628913511e-17 -0.0049999999999999766853" rpy="-3.141592653589793116 -1.8683188381277295455e-24 -2.8607443409091804138e-24" />
<geometry>
<mesh filename="package://quadruped_description/quadruped/leg_link_3.stl"/>
</geometry>
<material name="leg_link_3_material">
<color rgba="0.61568627450980395466 0.81176470588235294379 0.92941176470588238168 1.0"/>
</material>
</visual>
<collision>
<origin xyz="-2.7755575615628913511e-17 2.7755575615628913511e-17 -0.0049999999999999766853" rpy="-3.141592653589793116 -1.8683188381277295455e-24 -2.8607443409091804138e-24" />
<geometry>
<mesh filename="package://quadruped_description/quadruped/leg_link_3.stl"/>
</geometry>
</collision>
<inertial>
<origin xyz="-3.2230404294747177707e-08 0.16546849448399045257 0.018847935716785862992" rpy="0 0 0"/>
<mass value="0.42766929955741023184" />
<inertia ixx="0.0033996134873447241519" ixy="-1.2242578620013189789e-10"  ixz="4.5477348300680707396e-10" iyy="0.00032151983771756017898" iyz="-2.1840639475865687041e-05" izz="0.0032069954193416180983" />
</inertial>
</link>

<joint name="leg4_3" type="revolute">
<origin xyz="0 0.21399999999999996803 -0.0058999999999999608313" rpy="3.330669198001233236e-16 -6.6613380671725655711e-16 -1.8633760118236322817e-08" />
<parent link="marine_link_2_4" />
<child link="leg_link_3_4" />
<axis xyz="0 0 1"/>
<limit effort="1" velocity="20" />
<joint_properties friction="0.0"/>
</joint>

<joint name="leg4_2" type="revolute">
<origin xyz="0.015999999999999042766 0.10000000000000003331 0.013999999999999956923" rpy="-1.1102230246251375585e-16 -1.570796301276968121 0" />
<parent link="marine_link_1_4" />
<child link="marine_link_2_4" />
<axis xyz="0 0 1"/>
<limit effort="1" velocity="20" />
<joint_properties friction="0.0"/>
</joint>

<joint name="leg4_1" type="revolute">
<origin xyz="0.49554269854550642149 0.16053417492644200815 -0.21474789051679632479" rpy="1.3305681734715113911e-08 -1.2257037618437547064e-08 1.570796326794896558" />
<parent link="marine_body" />
<child link="marine_link_1_4" />
<axis xyz="0 0 1"/>
<limit effort="1" velocity="20" />
<joint_properties friction="0.0"/>
</joint>

<link name="marine_link_1_5">
<visual>
<origin xyz="0.01599999999999901501 0.099999999999999866773 0.013999999999999956923" rpy="3.141592653589793116 1.570796326794896558 0" />
<geometry>
<mesh filename="package://quadruped_description/quadruped/ak_80-6.stl"/>
</geometry>
<material name="ak_80-6_material">
<color rgba="0.61568627450980395466 0.81176470588235294379 0.92941176470588238168 1.0"/>
</material>
</visual>
<collision>
<origin xyz="0.01599999999999901501 0.099999999999999866773 0.013999999999999956923" rpy="3.141592653589793116 1.570796326794896558 0" />
<geometry>
<mesh filename="package://quadruped_description/quadruped/ak_80-6.stl"/>
</geometry>
</collision>
<visual>
<origin xyz="-1.1102230246251565404e-16 -1.1102230246251565404e-16 -0.0060000000000000053291" rpy="3.141592653589793116 5.3997677209687746852e-25 -1.5198795551881781573e-32" />
<geometry>
<mesh filename="package://quadruped_description/quadruped/leg_link_1.stl"/>
</geometry>
<material name="leg_link_1_material">
<color rgba="0.61568627450980395466 0.81176470588235294379 0.92941176470588238168 1.0"/>
</material>
</visual>
<collision>
<origin xyz="-1.1102230246251565404e-16 -1.1102230246251565404e-16 -0.0060000000000000053291" rpy="3.141592653589793116 5.3997677209687746852e-25 -1.5198795551881781573e-32" />
<geometry>
<mesh filename="package://quadruped_description/quadruped/leg_link_1.stl"/>
</geometry>
</collision>
<inertial>
<origin xyz="-0.0030798674552687237832 0.097378484809245005605 0.013713671493597917941" rpy="0 0 0"/>
<mass value="1.5219446759767925048" />
<inertia ixx="0.0014510247696950149491" ixy="1.2288058522576338394e-05"  ixz="1.3421327695366199367e-06" iyy="0.00078490304555335838402" iyz="-2.7535998986442674458e-05" izz="0.0010848479241112338276" />
</inertial>
</link>

<link name="marine_link_2_5">
<visual>
<origin xyz="-2.7755575615628913511e-17 0 -0.0050000000000000044409" rpy="-3.141592653589793116 -1.566545694851067642e-25 2.1949138965686868994e-33" />
<geometry>
<mesh filename="package://quadruped_description/quadruped/leg_link_2.stl"/>
</geometry>
<material name="leg_link_2_material">
<color rgba="0.61568627450980395466 0.81176470588235294379 0.92941176470588238168 1.0"/>
</material>
</visual>
<collision>
<origin xyz="-2.7755575615628913511e-17 0 -0.0050000000000000044409" rpy="-3.141592653589793116 -1.566545694851067642e-25 2.1949138965686868994e-33" />
<geometry>
<mesh filename="package://quadruped_description/quadruped/leg_link_2.stl"/>
</geometry>
</collision>
<visual>
<origin xyz="-2.7755575615628913511e-17 0.21400000000000007905 -0.0060000000000000053291" rpy="-3.33066907387546617e-16 -2.2204460503201228532e-16 3.141592653589793116" />
<geometry>
<mesh filename="package://quadruped_description/quadruped/ak_80-6.stl"/>
</geometry>
<material name="ak_80-6_material">
<color rgba="0.61568627450980395466 0.81176470588235294379 0.92941176470588238168 1.0"/>
</material>
</visual>
<collision>
<origin xyz="-2.7755575615628913511e-17 0.21400000000000007905 -0.0060000000000000053291" rpy="-3.33066907387546617e-16 -2.2204460503201228532e-16 3.141592653589793116" />
<geometry>
<mesh filename="package://quadruped_description/quadruped/ak_80-6.stl"/>
</geometry>
</collision>
<inertial>
<origin xyz="-8.3367393509718289613e-09 0.19552184531056768235 0.013940732635970882677" rpy="0 0 0"/>
<mass value="1.7687316482567319031" />
<inertia ixx="0.0050867491706552509997" ixy="-7.1050280532120153366e-10"  ixz="5.9357133909882551919e-10" iyy="0.0009414387688410585887" iyz="6.752578411220625063e-05" izz="0.0053701448403779203367" />
</inertial>
</link>

<link name="leg_link_3_5">
<visual>
<origin xyz="-2.7755575615628913511e-17 0 -0.0050000000000000044409" rpy="3.141592653589793116 -2.6363553916238460517e-25 2.0381343325391673179e-33" />
<geometry>
<mesh filename="package://quadruped_description/quadruped/leg_link_3.stl"/>
</geometry>
<material name="leg_link_3_material">
<color rgba="0.61568627450980395466 0.81176470588235294379 0.92941176470588238168 1.0"/>
</material>
</visual>
<collision>
<origin xyz="-2.7755575615628913511e-17 0 -0.0050000000000000044409" rpy="3.141592653589793116 -2.6363553916238460517e-25 2.0381343325391673179e-33" />
<geometry>
<mesh filename="package://quadruped_description/quadruped/leg_link_3.stl"/>
</geometry>
</collision>
<inertial>
<origin xyz="-3.2230404294747177707e-08 0.16546849448399042481 0.018847935716785835236" rpy="0 0 0"/>
<mass value="0.42766929955741023184" />
<inertia ixx="0.0033996134873447241519" ixy="-1.2242578620013189789e-10"  ixz="4.5477348300680707396e-10" iyy="0.00032151983771756017898" iyz="-2.1840639475865687041e-05" izz="0.0032069954193416180983" />
</inertial>
</link>

<joint name="leg5_3" type="revolute">
<origin xyz="-2.7755575615628913511e-17 0.21400000000000007905 -0.0060000000000000053291" rpy="3.3306690738754282061e-16 2.2204460466139783926e-16 -9.6569478820098474956e-32" />
<parent link="marine_link_2_5" />
<child link="leg_link_3_5" />
<axis xyz="0 0 1"/>
<limit effort="1" velocity="20" />
<joint_properties friction="0.0"/>
</joint>

<joint name="leg5_2" type="revolute">
<origin xyz="0.01599999999999901501 0.099999999999999866773 0.013999999999999956923" rpy="6.4157844600066747648e-33 -1.5707963134892146684 0" />
<parent link="marine_link_1_5" />
<child link="marine_link_2_5" />
<axis xyz="0 0 1"/>
<limit effort="1" velocity="20" />
<joint_properties friction="0.0"/>
</joint>

<joint name="leg5_1" type="revolute">
<origin xyz="0.62954269853353173048 0.41053417493747335065 -0.2156478892354982968" rpy="-1.3305681734715105639e-08 1.225703761843755699e-08 -1.57079632679489678" />
<parent link="marine_body" />
<child link="marine_link_1_5" />
<axis xyz="0 0 1"/>
<limit effort="1" velocity="20" />
<joint_properties friction="0.0"/>
</joint>

<link name="marine_link_1_6">
<visual>
<origin xyz="0.015999999999999903189 0.10000000000000003331 0.013999999999999984679" rpy="3.141592653589793116 1.570796326794896558 0" />
<geometry>
<mesh filename="package://quadruped_description/quadruped/ak_80-6.stl"/>
</geometry>
<material name="ak_80-6_material">
<color rgba="0.61568627450980395466 0.81176470588235294379 0.92941176470588238168 1.0"/>
</material>
</visual>
<collision>
<origin xyz="0.015999999999999903189 0.10000000000000003331 0.013999999999999984679" rpy="3.141592653589793116 1.570796326794896558 0" />
<geometry>
<mesh filename="package://quadruped_description/quadruped/ak_80-6.stl"/>
</geometry>
</collision>
<visual>
<origin xyz="-5.5511151231257827021e-17 0 -0.0060000000000000053291" rpy="3.141592653589793116 5.8711337467473334219e-25 -1.582696786617694222e-30" />
<geometry>
<mesh filename="package://quadruped_description/quadruped/leg_link_1.stl"/>
</geometry>
<material name="leg_link_1_material">
<color rgba="0.61568627450980395466 0.81176470588235294379 0.92941176470588238168 1.0"/>
</material>
</visual>
<collision>
<origin xyz="-5.5511151231257827021e-17 0 -0.0060000000000000053291" rpy="3.141592653589793116 5.8711337467473334219e-25 -1.582696786617694222e-30" />
<geometry>
<mesh filename="package://quadruped_description/quadruped/leg_link_1.stl"/>
</geometry>
</collision>
<inertial>
<origin xyz="-0.0030798674552684579368 0.097378484809245172138 0.013713671493597942228" rpy="0 0 0"/>
<mass value="1.5219446759767925048" />
<inertia ixx="0.0014510247696950797844" ixy="1.2288058522575735307e-05"  ixz="1.3421327695365316336e-06" iyy="0.00078490304555341367833" iyz="-2.7535998986442796431e-05" izz="0.0010848479241112578969" />
</inertial>
</link>

<link name="marine_link_2_6">
<visual>
<origin xyz="0 0 -0.005000000000000059952" rpy="3.141592653589793116 6.8645569322546947274e-25 -1.5116644668380660983e-33" />
<geometry>
<mesh filename="package://quadruped_description/quadruped/leg_link_2.stl"/>
</geometry>
<material name="leg_link_2_material">
<color rgba="0.61568627450980395466 0.81176470588235294379 0.92941176470588238168 1.0"/>
</material>
</visual>
<collision>
<origin xyz="0 0 -0.005000000000000059952" rpy="3.141592653589793116 6.8645569322546947274e-25 -1.5116644668380660983e-33" />
<geometry>
<mesh filename="package://quadruped_description/quadruped/leg_link_2.stl"/>
</geometry>
</collision>
<visual>
<origin xyz="0 0.21400000000000007905 -0.0059999999999999498179" rpy="-3.3306690738753897491e-16 6.6613381653644717064e-16 -3.141592653589793116" />
<geometry>
<mesh filename="package://quadruped_description/quadruped/ak_80-6.stl"/>
</geometry>
<material name="ak_80-6_material">
<color rgba="0.61568627450980395466 0.81176470588235294379 0.92941176470588238168 1.0"/>
</material>
</visual>
<collision>
<origin xyz="0 0.21400000000000007905 -0.0059999999999999498179" rpy="-3.3306690738753897491e-16 6.6613381653644717064e-16 -3.141592653589793116" />
<geometry>
<mesh filename="package://quadruped_description/quadruped/ak_80-6.stl"/>
</geometry>
</collision>
<inertial>
<origin xyz="-8.3367393232162533457e-09 0.19552184531056768235 0.013940732635970887882" rpy="0 0 0"/>
<mass value="1.7687316482567319031" />
<inertia ixx="0.0050867491706552362546" ixy="-7.1050280532120153366e-10"  ixz="5.9357133971703869891e-10" iyy="0.00094143876884104384355" iyz="6.7525784112204231303e-05" izz="0.0053701448403779168672" />
</inertial>
</link>

<link name="leg_link_3_6">
<visual>
<origin xyz="0 0 -0.0049999999999999489297" rpy="3.141592653589793116 4.2537445692179961875e-25 -5.1700131995909954257e-33" />
<geometry>
<mesh filename="package://quadruped_description/quadruped/leg_link_3.stl"/>
</geometry>
<material name="leg_link_3_material">
<color rgba="0.61568627450980395466 0.81176470588235294379 0.92941176470588238168 1.0"/>
</material>
</visual>
<collision>
<origin xyz="0 0 -0.0049999999999999489297" rpy="3.141592653589793116 4.2537445692179961875e-25 -5.1700131995909954257e-33" />
<geometry>
<mesh filename="package://quadruped_description/quadruped/leg_link_3.stl"/>
</geometry>
</collision>
<inertial>
<origin xyz="-3.2230404266991602092e-08 0.16546849448399042481 0.018847935716785890747" rpy="0 0 0"/>
<mass value="0.42766929955741023184" />
<inertia ixx="0.0033996134873447241519" ixy="-1.2242578620013189789e-10"  ixz="4.5477348300680707396e-10" iyy="0.00032151983771756017898" iyz="-2.1840639475865687041e-05" izz="0.0032069954193416180983" />
</inertial>
</link>

<joint name="leg6_3" type="revolute">
<origin xyz="-2.7755575615628913511e-17 0.21400000000000007905 -0.0058999999999999608313" rpy="3.3306690738754119358e-16 -6.6613381600409385509e-16 3.3087224327162111062e-24" />
<parent link="marine_link_2_6" />
<child link="leg_link_3_6" />
<axis xyz="0 0 1"/>
<limit effort="1" velocity="20" />
<joint_properties friction="0.0"/>
</joint>

<joint name="leg6_2" type="revolute">
<origin xyz="0.015999999999999903189 0.10000000000000003331 0.013999999999999984679" rpy="9.0669751618562304133e-30 -1.5707963134892148904 0" />
<parent link="marine_link_1_6" />
<child link="marine_link_2_6" />
<axis xyz="0 0 1"/>
<limit effort="1" velocity="20" />
<joint_properties friction="0.0"/>
</joint>

<joint name="leg6_1" type="revolute">
<origin xyz="0.49554269854550619945 0.41053417492644200815 -0.21474788745253692301" rpy="1.3305681734714096479e-08 -1.2257037618438294835e-08 1.5707963267949522912" />
<parent link="marine_body" />
<child link="marine_link_1_6" />
<axis xyz="0 0 1"/>
<limit effort="1" velocity="20" />
<joint_properties friction="0.0"/>
</joint>


</robot>
